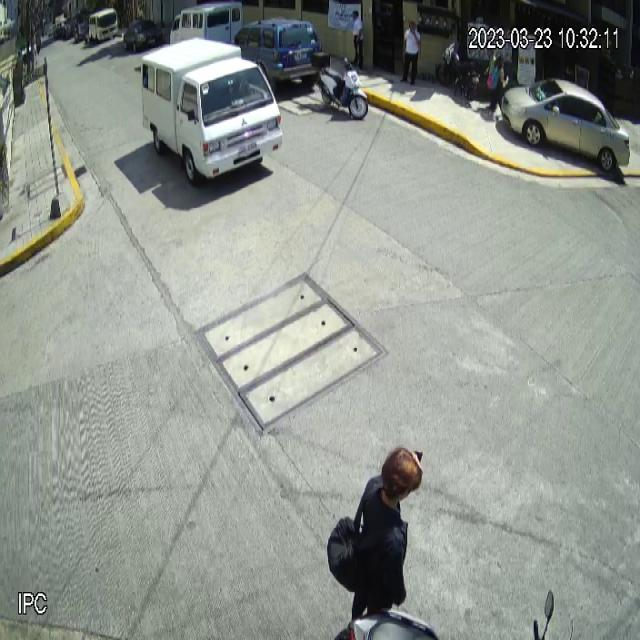Car: (501, 77, 632, 176), (234, 15, 323, 86)
Motorcycle: (311, 51, 369, 120)
Van: (138, 36, 285, 192), (169, 0, 243, 68)
